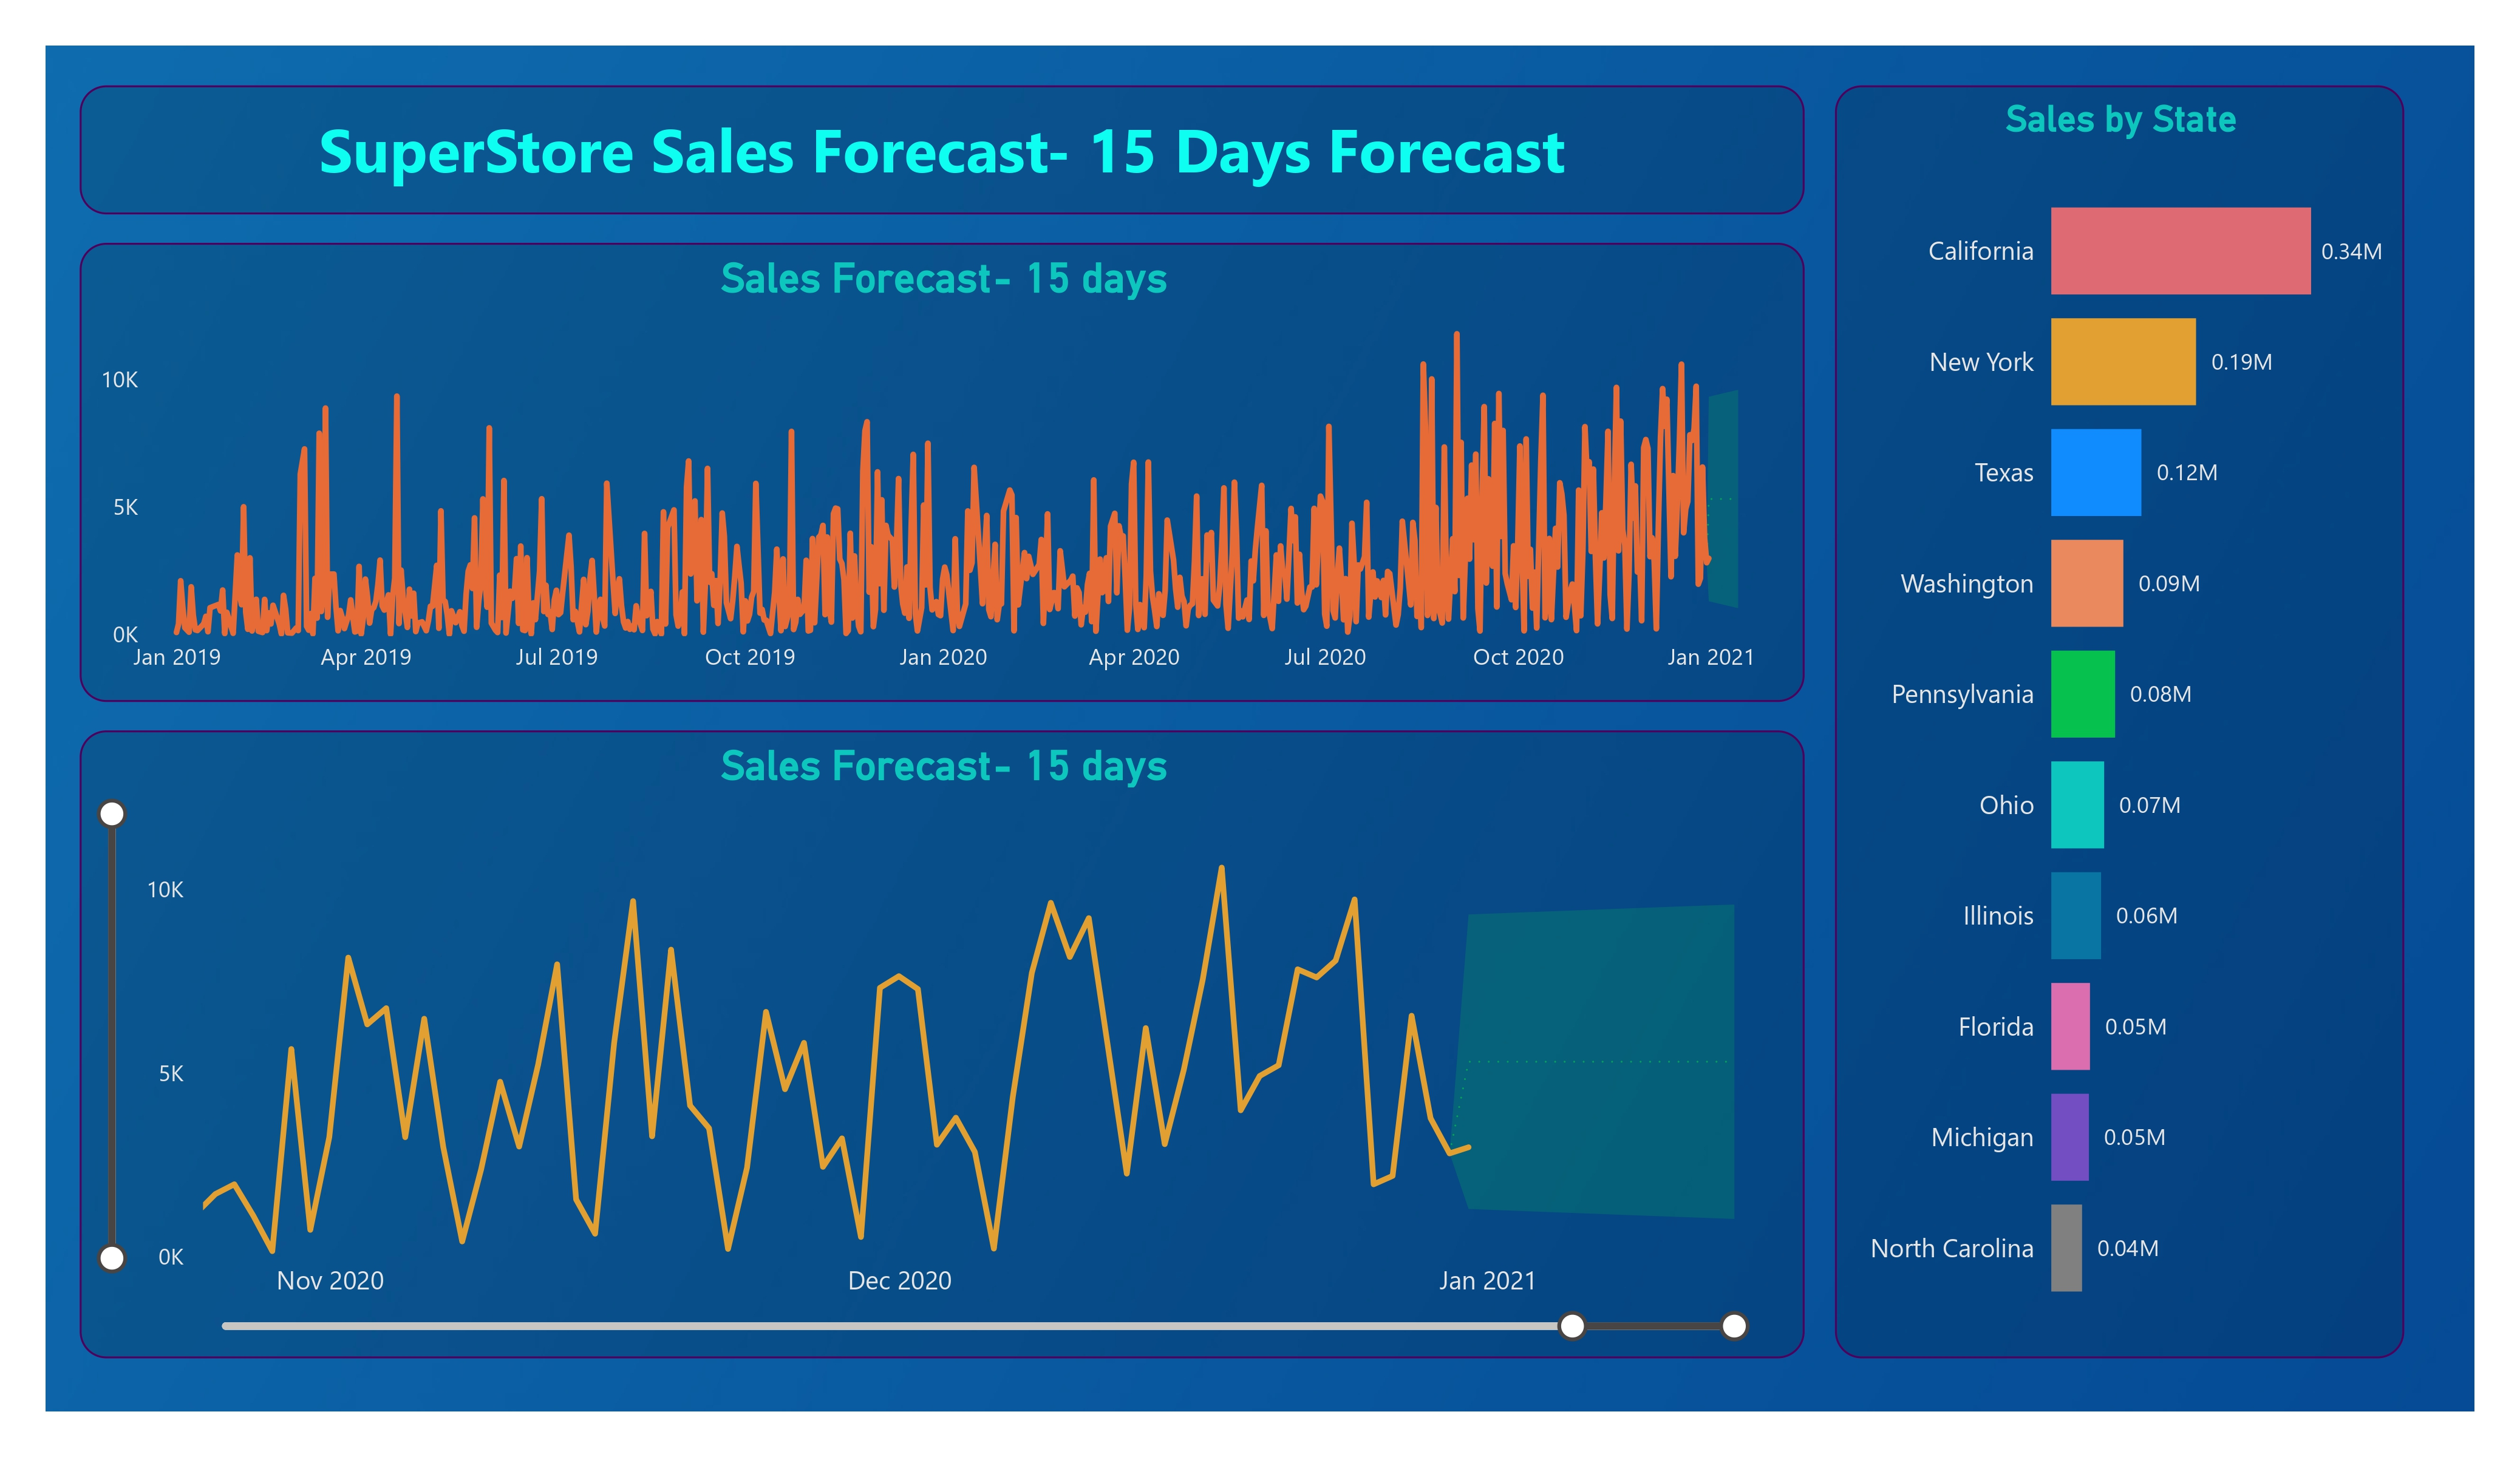

Layout of this report page (visuals, bound fields, positions):
{"tool":"powerbi","page":{"name":"Page 2","canvas":[1280,720],"ordinal":1},"visuals":[{"type":"lineChart","title":"Sales Forecast- 15 days","fields":{"Y":["Sum(SuperStore_Sales_Dataset.Sales)"],"Category":["SuperStore_Sales_Dataset.Order Date"]},"box":[17.5,103.7,909.4,242.5],"z":0},{"type":"lineChart","title":"Sales Forecast- 15 days","fields":{"Y":["Sum(SuperStore_Sales_Dataset.Sales)"],"Category":["SuperStore_Sales_Dataset.Order Date"]},"box":[17.5,360.6,909.4,331.8],"z":1001},{"type":"clusteredBarChart","title":"Sales by State","fields":{"Y":["Sum(SuperStore_Sales_Dataset.Sales)"],"Category":["SuperStore_Sales_Dataset.State"]},"box":[942.9,20.7,299.9,671.6],"z":1002},{"type":"textbox","box":[17.5,20.7,909.4,68.6],"z":1003}]}

Visuals, with their boxes in screenshot pixels (x1, y1, x2, y2):
"Sales Forecast- 15 days" lineChart: crop(79, 242, 1805, 702)
"Sales Forecast- 15 days" lineChart: crop(79, 730, 1805, 1359)
"Sales by State" clusteredBarChart: crop(1835, 85, 2404, 1359)
textbox: crop(79, 85, 1805, 215)
